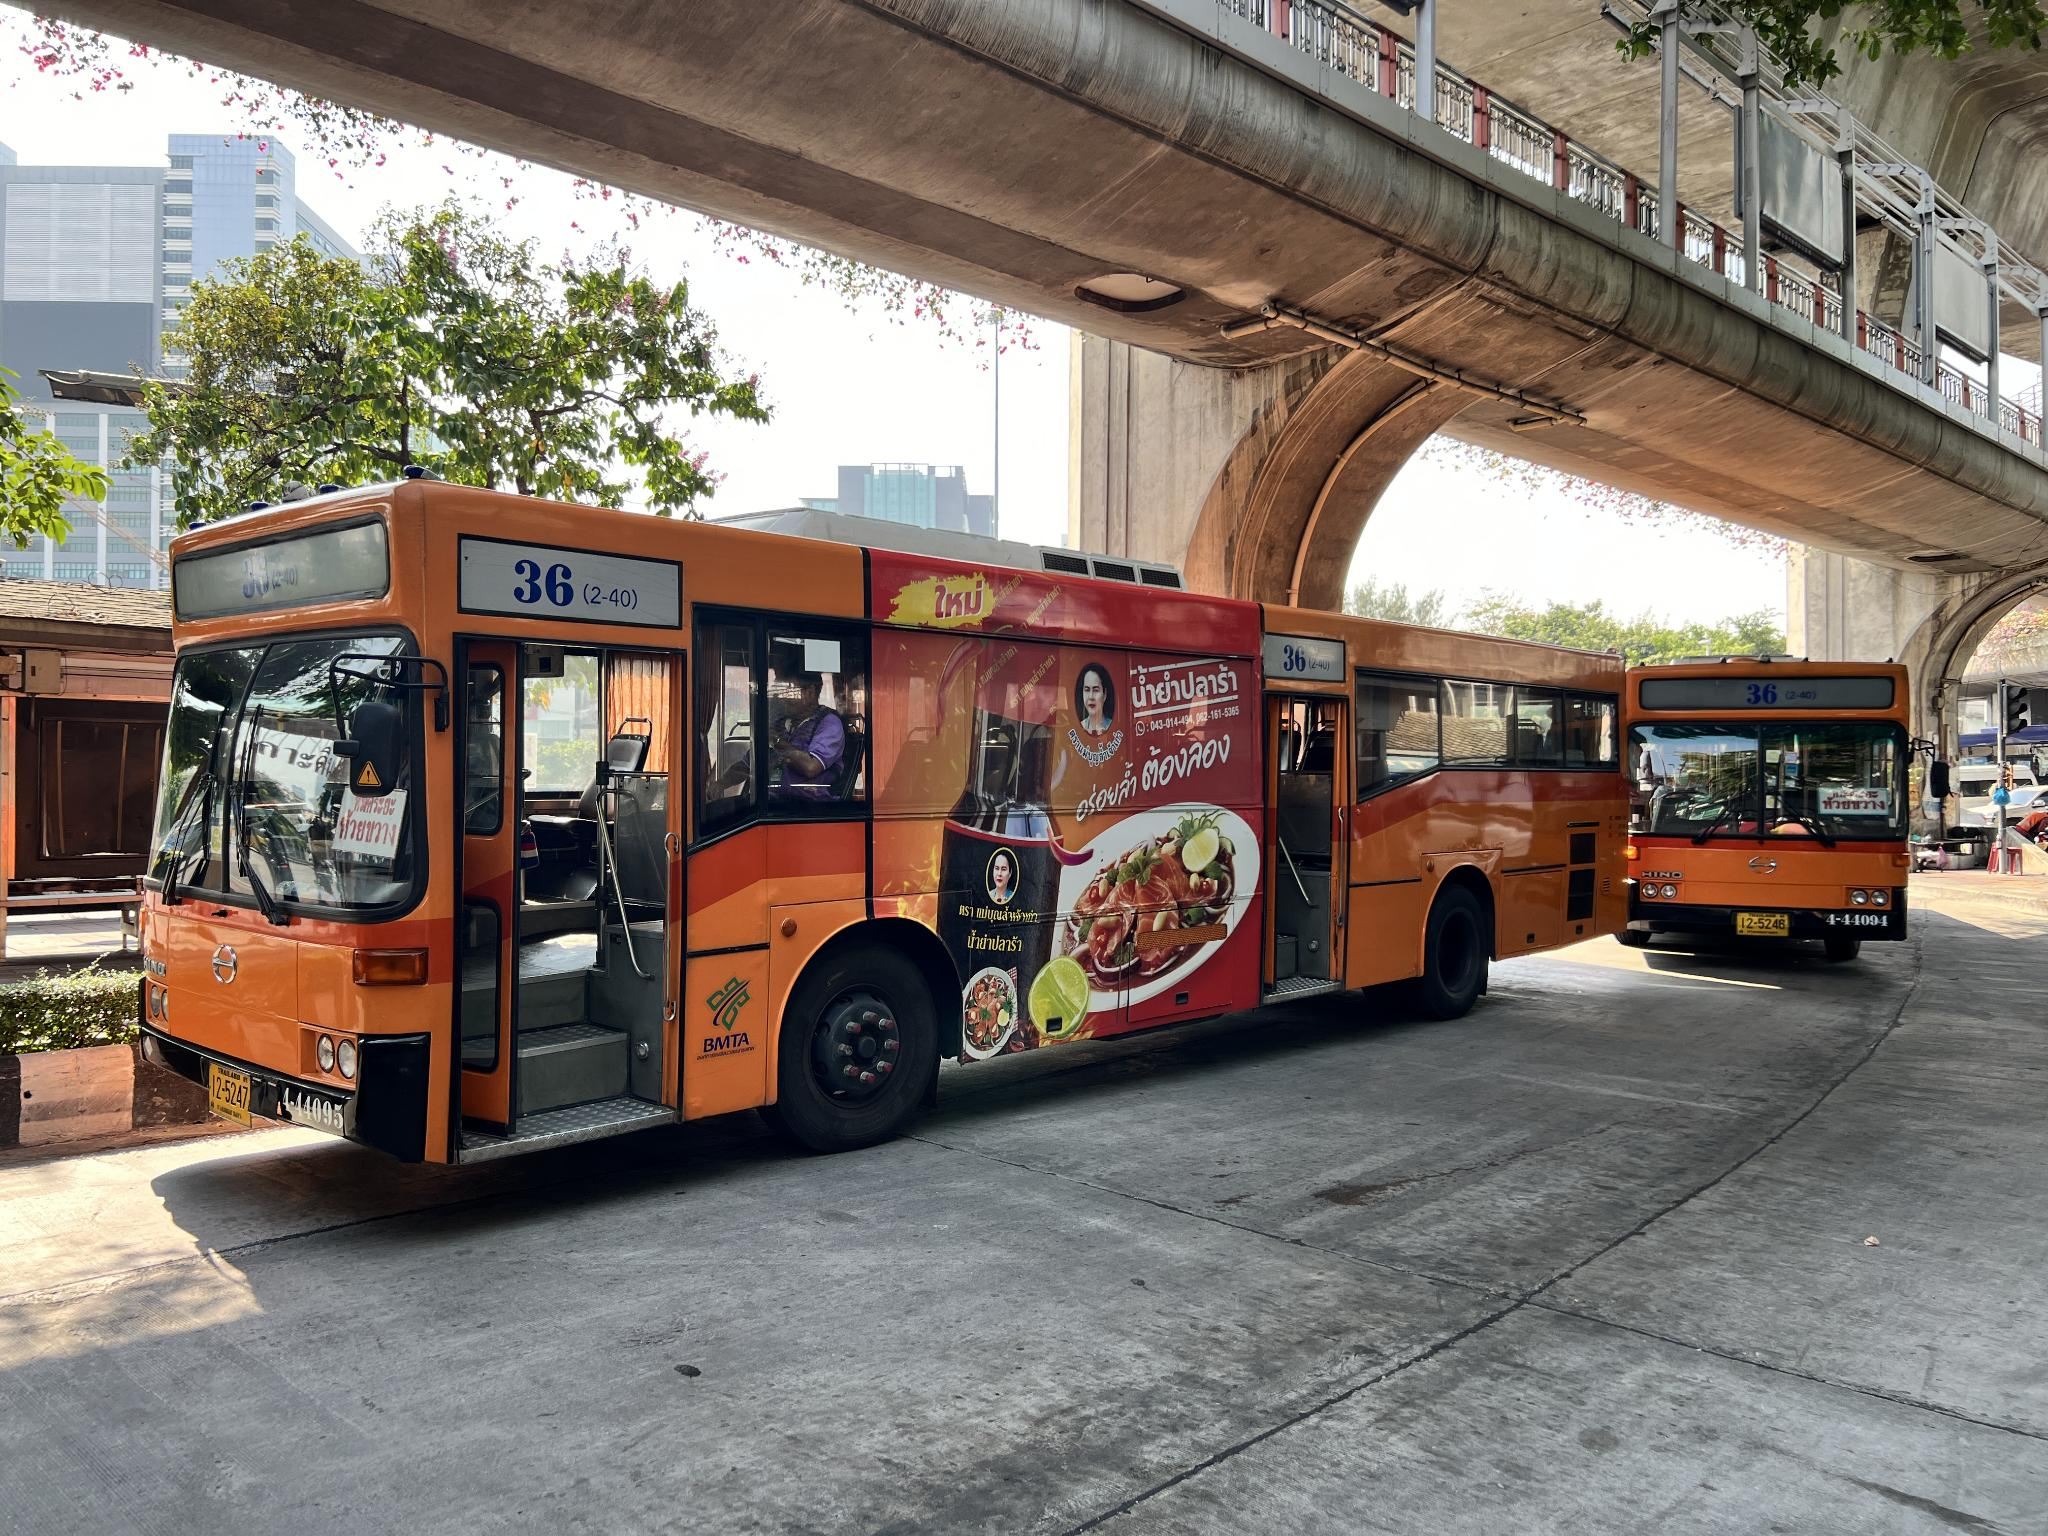BMTA-bus: (139, 484, 1637, 1176), (1624, 657, 1919, 976)
Bus Line Number: (502, 544, 642, 618), (232, 549, 305, 607), (1743, 679, 1821, 708)
Bus Side Number: (277, 1084, 347, 1129), (1821, 910, 1893, 928)
Destination Sign: (327, 791, 408, 854), (1817, 786, 1892, 816)
